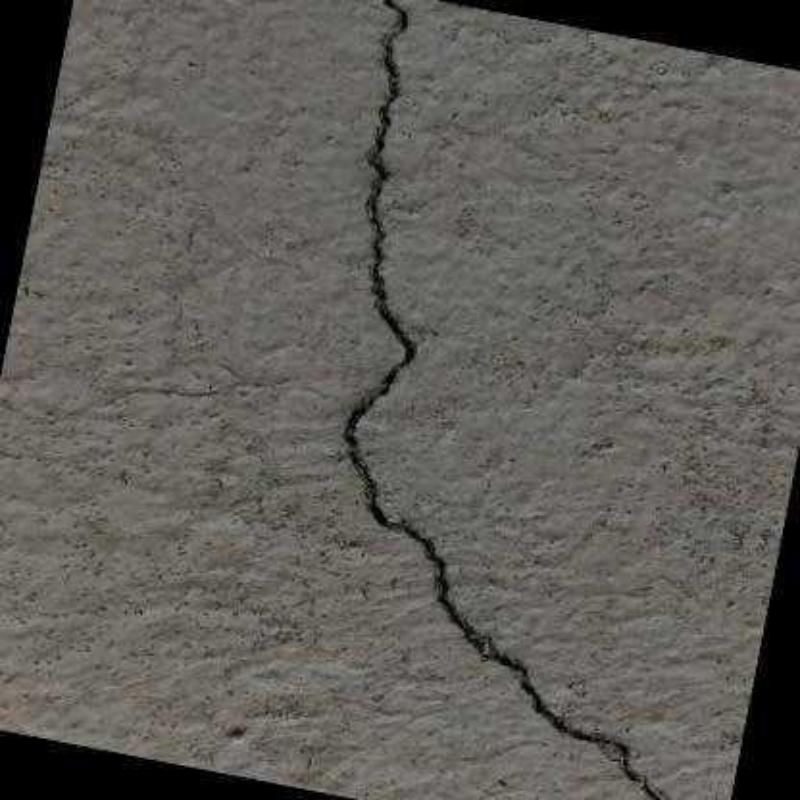pothole: (345, 0, 663, 798)
